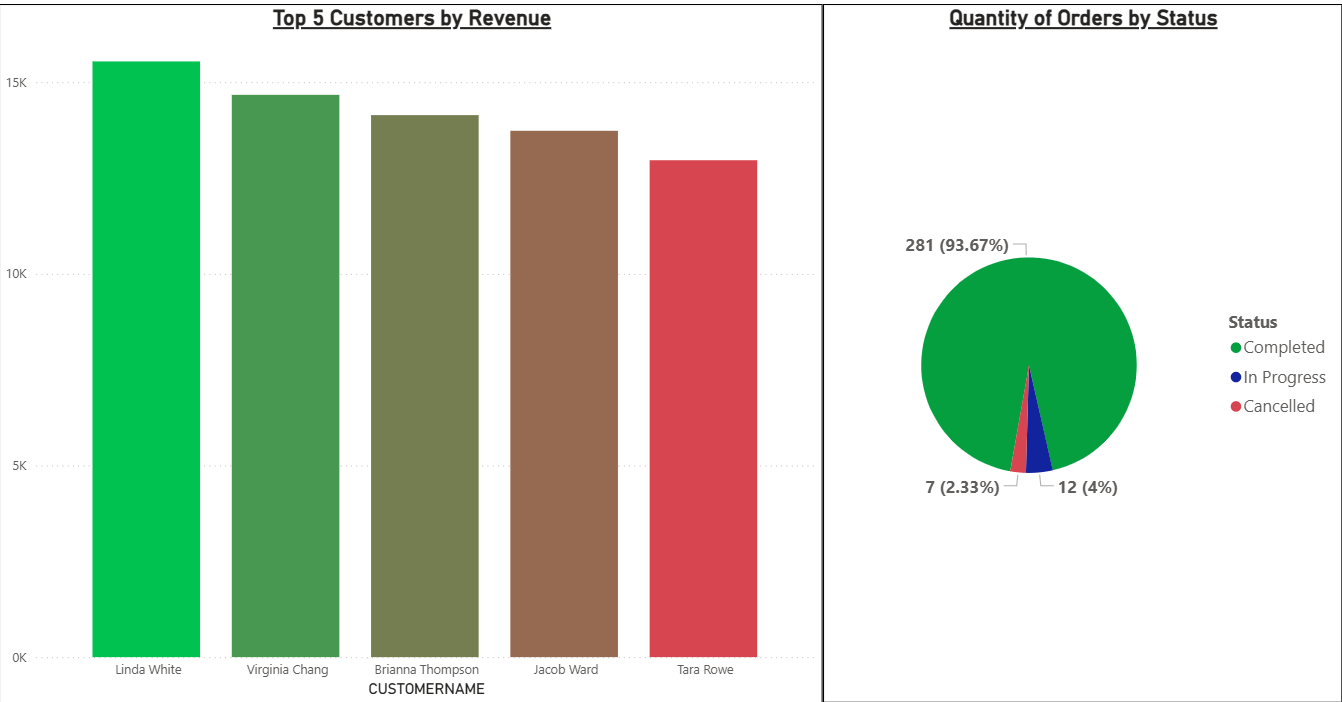

Layout of this report page (visuals, bound fields, positions):
{"tool":"powerbi","page":{"name":"Page 1","canvas":[1280,720],"ordinal":0},"visuals":[{"type":"columnChart","title":"Top 5 Customers by Revenue","fields":{"Category":["CUSTOMERREVENUE.CUSTOMERNAME"],"Y":["CUSTOMERREVENUE.REVENUE"]},"box":[0,53.4,785.4,666.7],"z":0},{"type":"pieChart","title":"Quantity of Orders by Status","fields":{"Category":["CUSTOMERREVENUE (2).STATUSDESC"],"Y":["CUSTOMERREVENUE (2).ORDERCOUNT"]},"box":[785.4,53.4,494.6,665.6],"z":1}]}

Visuals, with their boxes on the page's 1280x720 design canvas (x1, y1, x2, y2). These are canvas units, not pixel positions in the 1342x702 screenshot, which may show the page scaled, cropped or inside an application window:
"Top 5 Customers by Revenue" columnChart: l=0, t=53, r=785, b=720
"Quantity of Orders by Status" pieChart: l=785, t=53, r=1280, b=719
